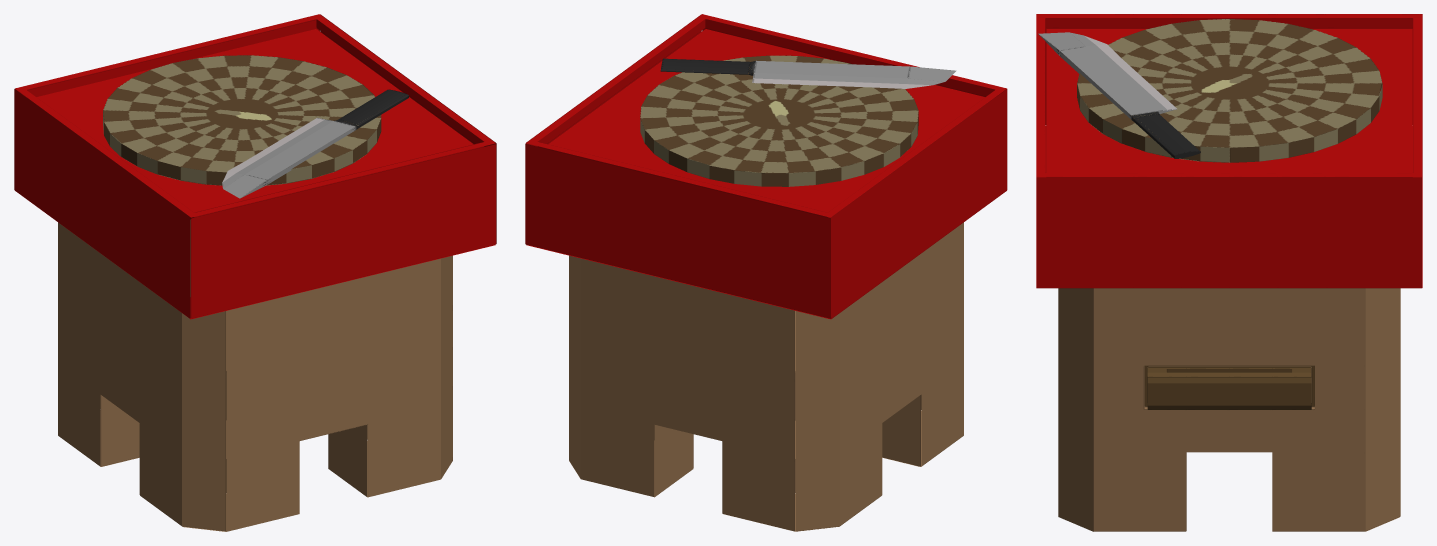
File: Chopping_Station.fbx
The picture shows the model from 3 angles, left to right: view 1: azimuth 30°, elevation 25°; view 2: azimuth 150°, elevation 25°; view 3: azimuth 270°, elevation 25°; orthographic projection. The views are drawn at different scales.
Parts seen in each view (by area): view 1: Table, Cutting Board, Knife; view 2: Table, Cutting Board, Knife; view 3: Table, Cutting Board, Knife.
Part boxes in pixels (x1,y1,x2,y2): Table: (14, 14, 496, 531); Cutting Board: (103, 55, 381, 185); Knife: (222, 89, 408, 198); Table: (525, 14, 1007, 531); Cutting Board: (640, 55, 918, 186); Knife: (660, 58, 956, 88); Table: (1036, 14, 1422, 531); Cutting Board: (1077, 19, 1382, 162); Knife: (1038, 32, 1200, 158).
Size of the model in its own units: 199 by 212 by 199.
